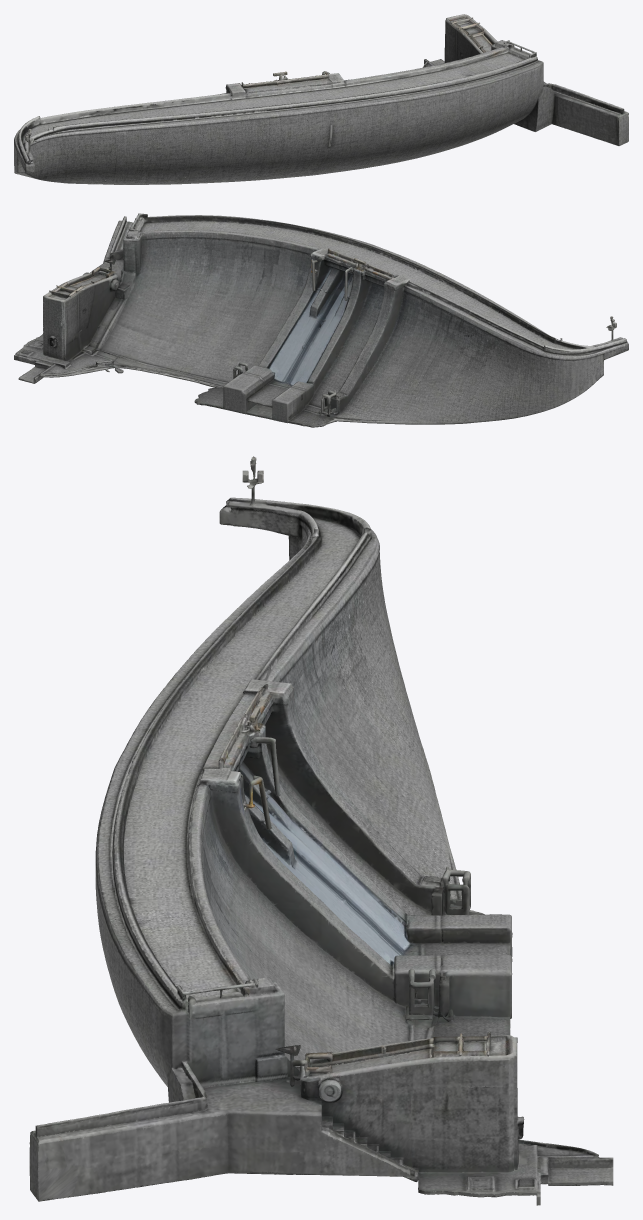
Rendered from hydro.glb.
3 renders of one model, top to bottom at view 1: azimuth 30°, elevation 25°; view 2: azimuth 150°, elevation 25°; view 3: azimuth 270°, elevation 25°, orthographic. The views are drawn at different scales.
Parts seen in each view (by area): view 1: tripo_node_1d19934b-3096-4761-8aa3-628747cabe70; view 2: tripo_node_1d19934b-3096-4761-8aa3-628747cabe70; view 3: tripo_node_1d19934b-3096-4761-8aa3-628747cabe70.
Boxes of the visible parts, x1,y1,x2,y2 form: tripo_node_1d19934b-3096-4761-8aa3-628747cabe70: [14, 14, 628, 184]; tripo_node_1d19934b-3096-4761-8aa3-628747cabe70: [14, 213, 628, 427]; tripo_node_1d19934b-3096-4761-8aa3-628747cabe70: [29, 456, 613, 1205].
Size of the model in its own units: 0.9812 by 0.2105 by 0.4462.
Materials: 1 (1 with a texture image).
